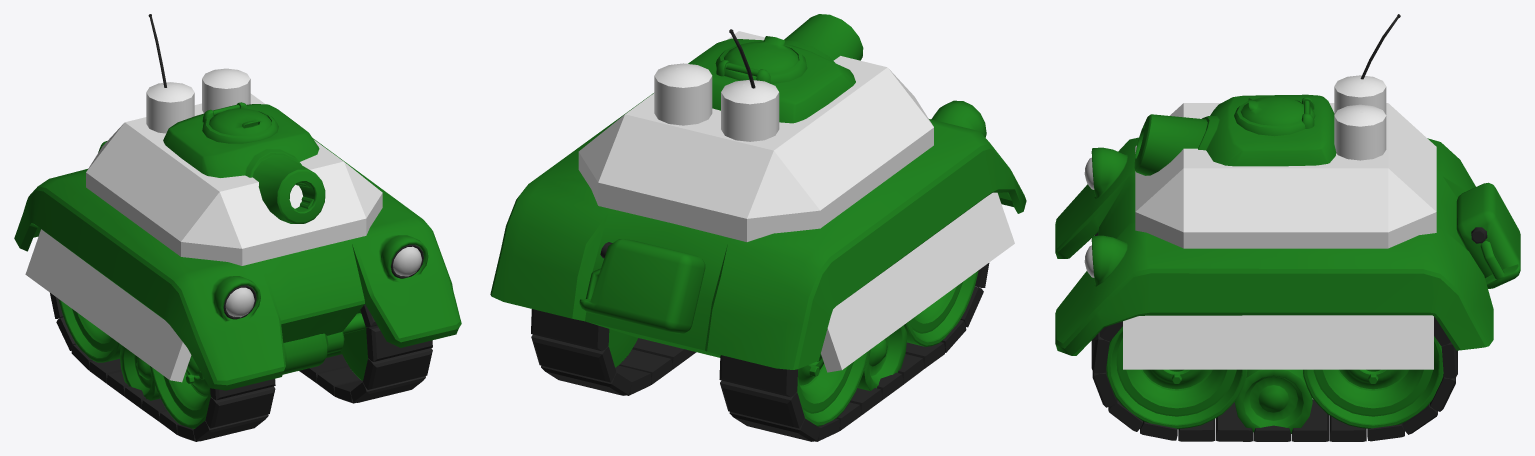
The model's file is Destroyer.FBX.
3 views of the same model, side by side, from view 1: azimuth 30°, elevation 25°; view 2: azimuth 150°, elevation 25°; view 3: azimuth 270°, elevation 25° (orthographic). The views are drawn at different scales.
Parts seen in each view (by area): view 1: TankChassis, ChamferBox001, TankTurret, TankTracksRight, TankTracksLeft; view 2: TankChassis, ChamferBox001, TankTracksRight, TankTurret, TankTracksLeft; view 3: TankChassis, ChamferBox001, TankTracksLeft, TankTurret.
Part boxes in pixels (<box>): TankChassis: <box>14,138,461,400</box>; ChamferBox001: <box>25,68,382,382</box>; TankTurret: <box>148,14,325,223</box>; TankTracksRight: <box>50,293,275,441</box>; TankTracksLeft: <box>299,304,432,403</box>; TankChassis: <box>490,93,1026,390</box>; ChamferBox001: <box>578,31,1014,372</box>; TankTracksRight: <box>719,263,989,441</box>; TankTurret: <box>688,14,863,123</box>; TankTracksLeft: <box>531,309,696,395</box>; TankChassis: <box>1055,137,1520,433</box>; ChamferBox001: <box>1123,75,1436,369</box>; TankTracksLeft: <box>1091,317,1457,441</box>; TankTurret: <box>1134,14,1400,175</box>.
Size of the model in its own units: 137 by 154 by 183.
